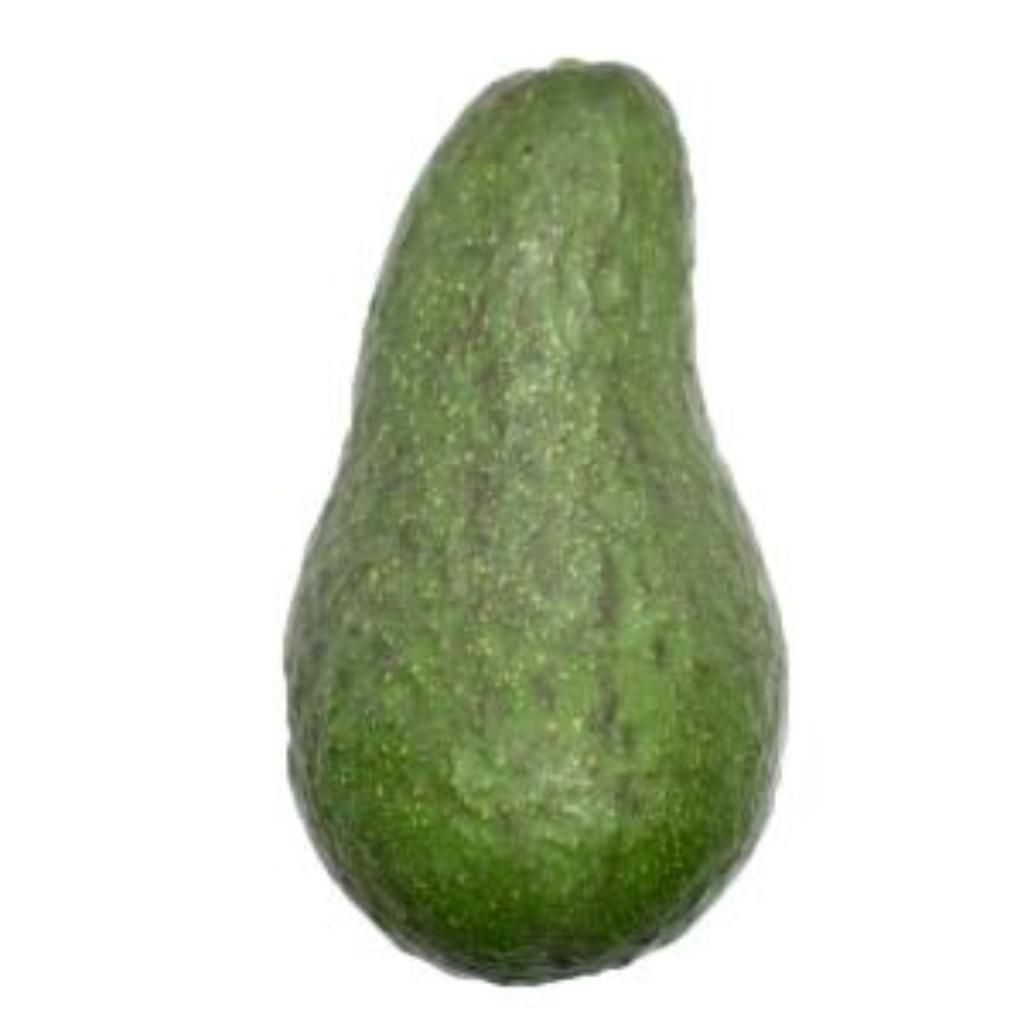cercospora: (267, 55, 796, 983)
